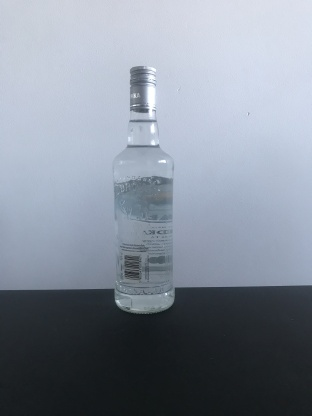nakretka: (128, 63, 158, 114)
